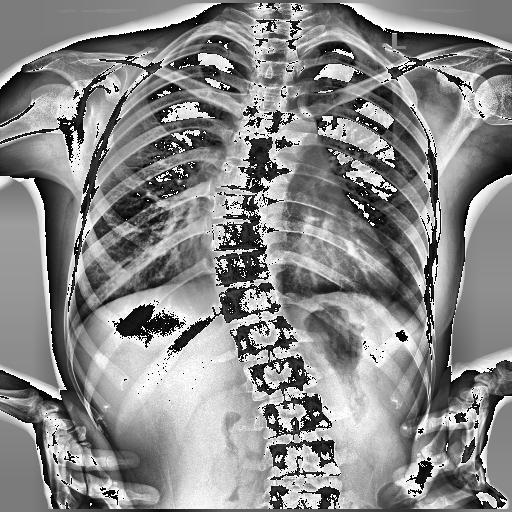3- Cardiomegaly: (202, 214, 398, 303), (202, 220, 394, 294)
9- Other lesion: (207, 194, 334, 420), (207, 84, 290, 418), (210, 105, 285, 350)
